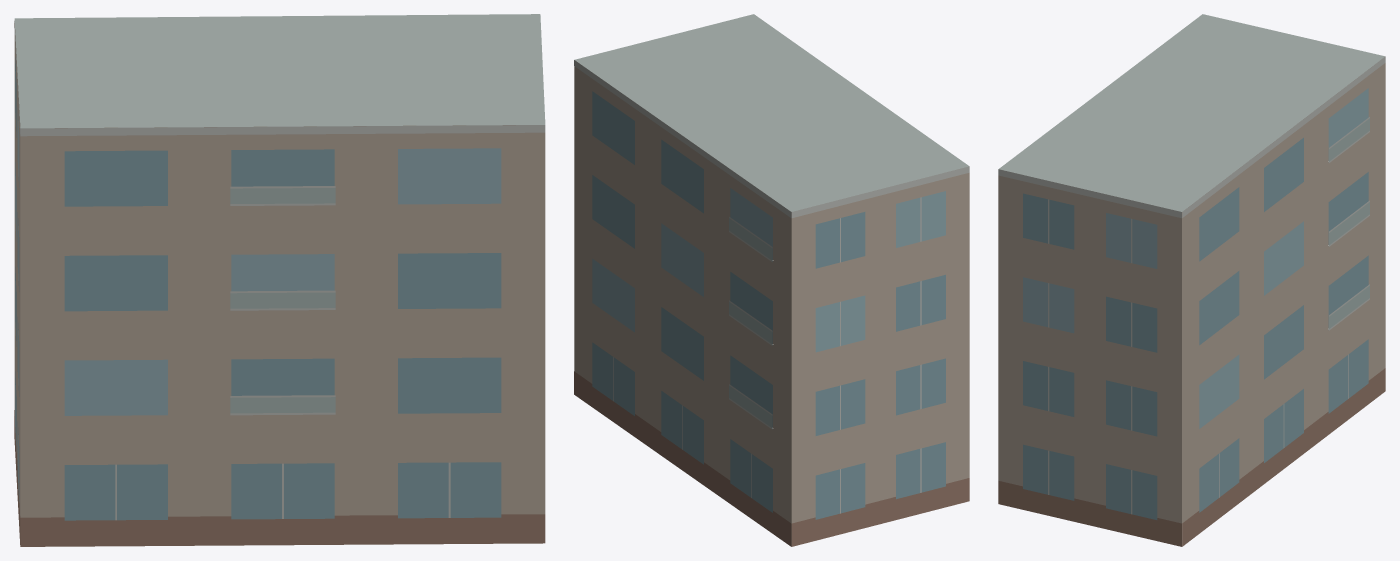
Rendered from survey-upis-32942400.glb.
3 renders of one model, left to right at view 1: azimuth 30°, elevation 25°; view 2: azimuth 150°, elevation 25°; view 3: azimuth 270°, elevation 25°, orthographic. The views are drawn at different scales.
Parts seen in each view (by area): view 1: survey-upis-32942400.tmp; view 2: survey-upis-32942400.tmp; view 3: survey-upis-32942400.tmp.
Boxes of the visible parts, <box> form: survey-upis-32942400.tmp: <box>14,14,545,546</box>; survey-upis-32942400.tmp: <box>574,14,969,546</box>; survey-upis-32942400.tmp: <box>998,14,1385,546</box>.
Size of the model in its own units: 16.49 by 13 by 13.63.
